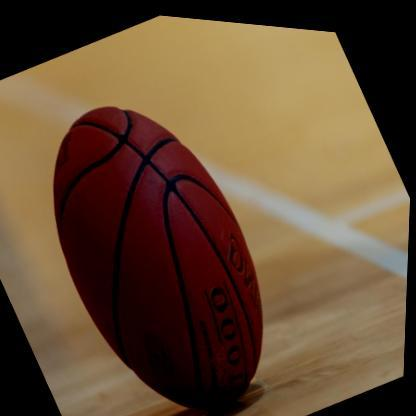basketball: (3, 60, 317, 416)
